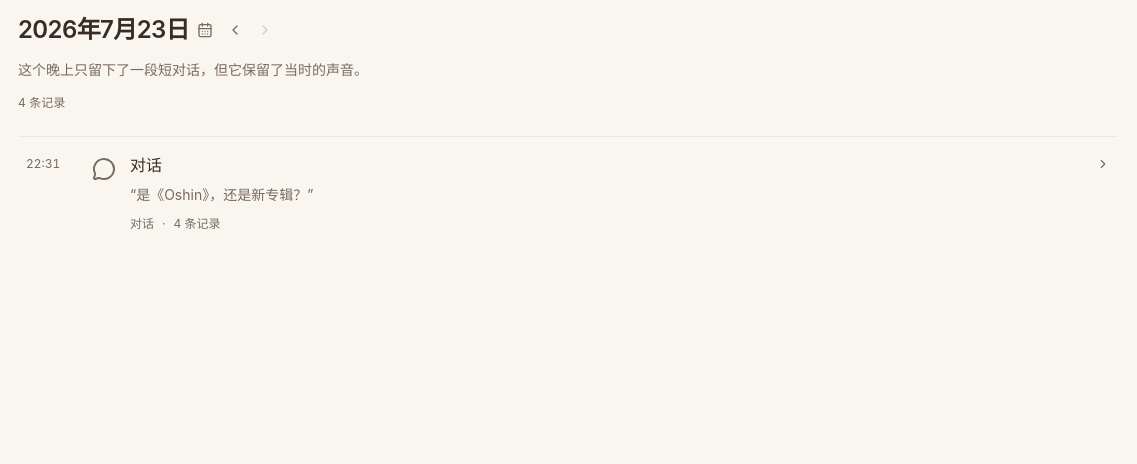
Test: DaySceneReader › keeps evidence collapsed until a scene is opened, then closes it again
This screenshot has width=1137, height=464.
Click the button "22:31 对话 “是《Oshin》，还是新专辑？” 对话 · 4 条记录" at x=43, y=164, box [18,137,1118,249]
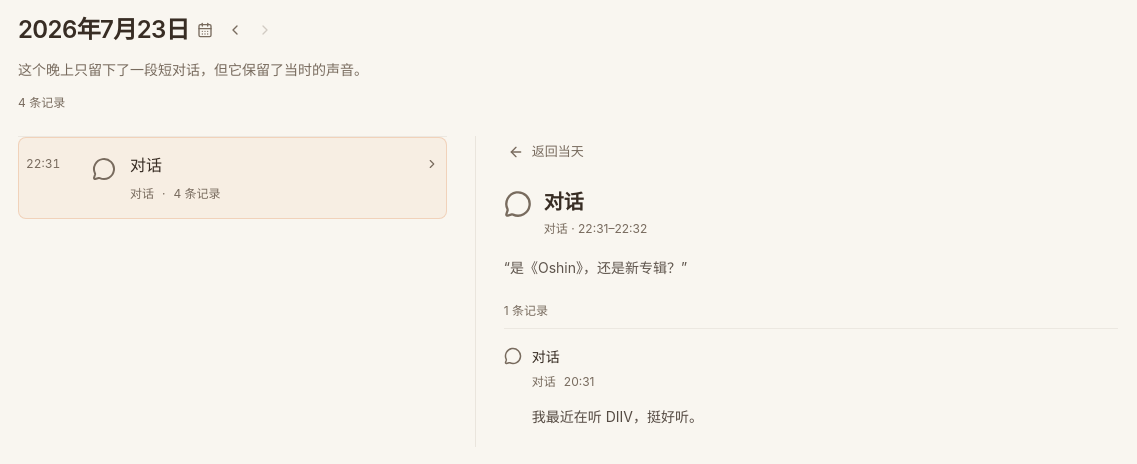
Expected: the text "我最近在听 DIIV，挺好听。" is shown, [532,408,703,424]
Expected: the button "22:31 对话 对话 · 4 条记录" is expanded, [18,137,447,219]
Click the button "返回当天" at x=546, y=152, box [504,136,588,168]
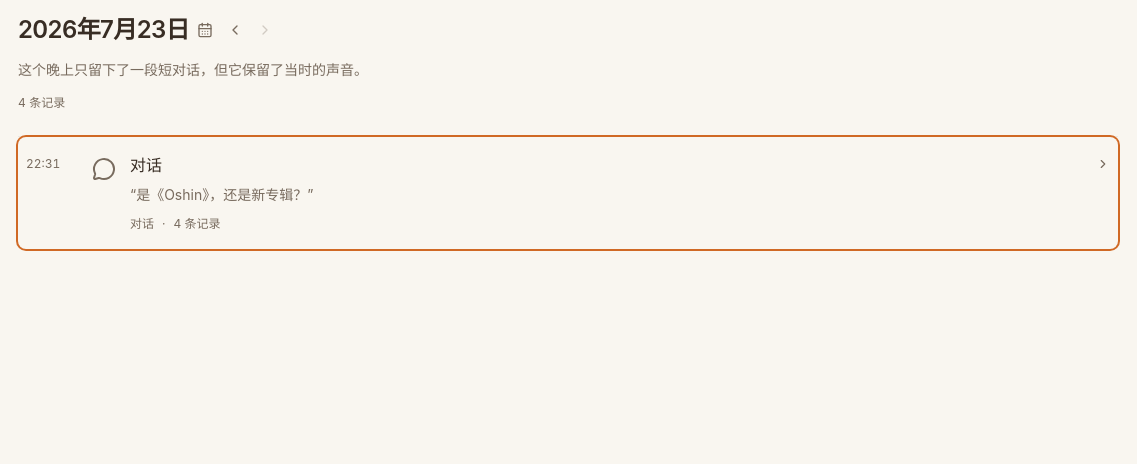
Expected: the element with test id "timeline-context-drawer" is gone
